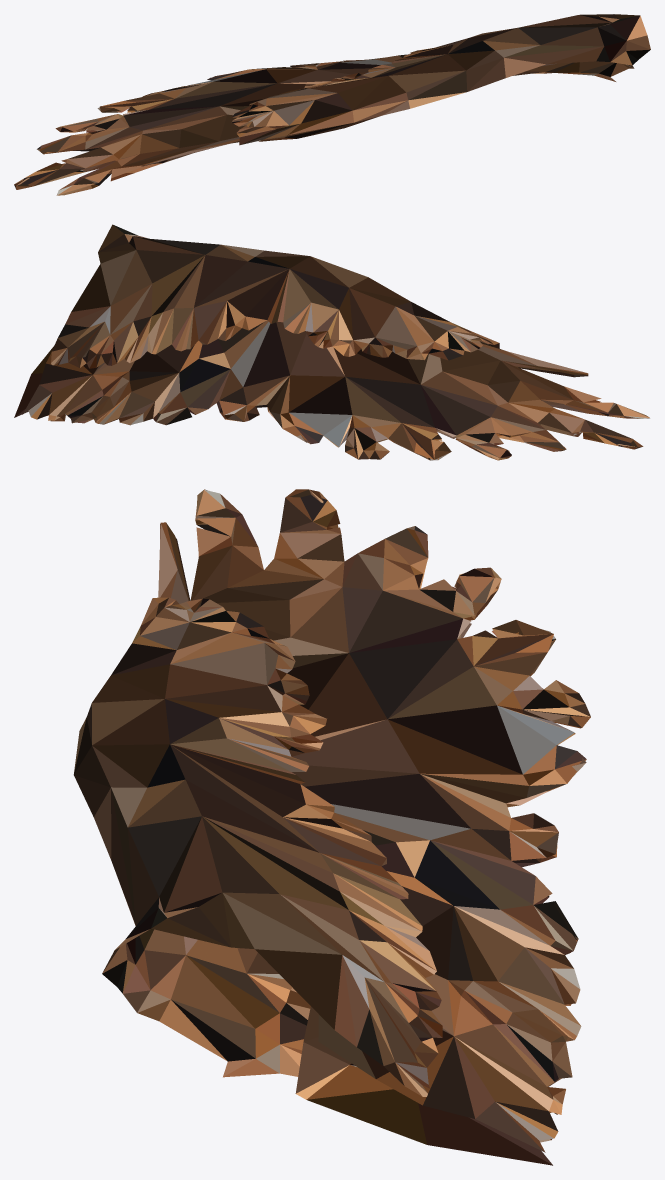
The model's file is ala_derecha2l.obj.
3 views of the same model, one above another, from view 1: azimuth 30°, elevation 25°; view 2: azimuth 150°, elevation 25°; view 3: azimuth 270°, elevation 25° (orthographic). The views are drawn at different scales.
Visible parts, largest first — view 1: ala_derecha; view 2: ala_derecha; view 3: ala_derecha.
Boxes of the visible parts, x1,y1,x2,y2 form: ala_derecha: (14, 14, 650, 195); ala_derecha: (14, 224, 650, 460); ala_derecha: (73, 489, 590, 1165).
Bounding box in the file's own units: 24.64 × 5.04 × 9.53.
1 material, 1 textured.
